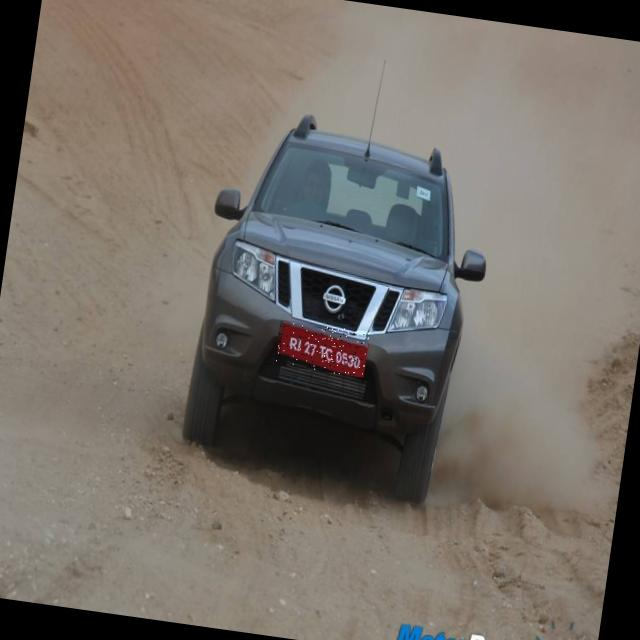Plate: (275, 321, 371, 379)
